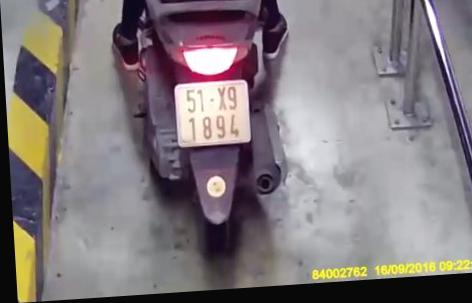License_Plate: (166, 72, 257, 153)
